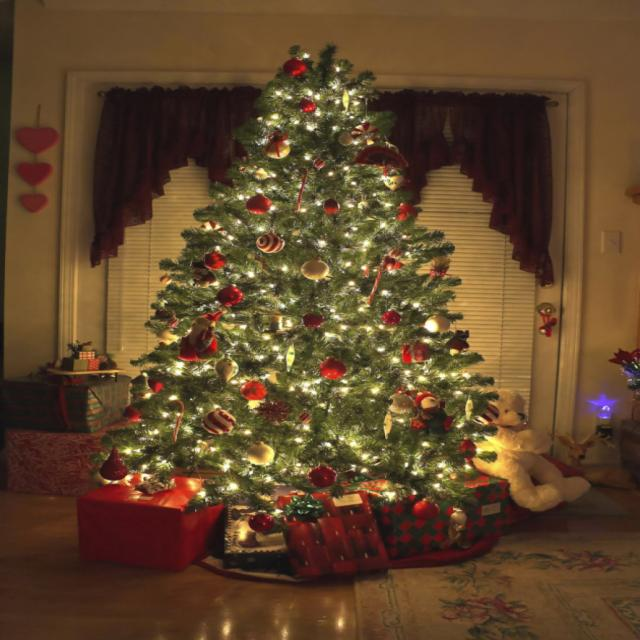Christmas-tree: (86, 33, 502, 486)
